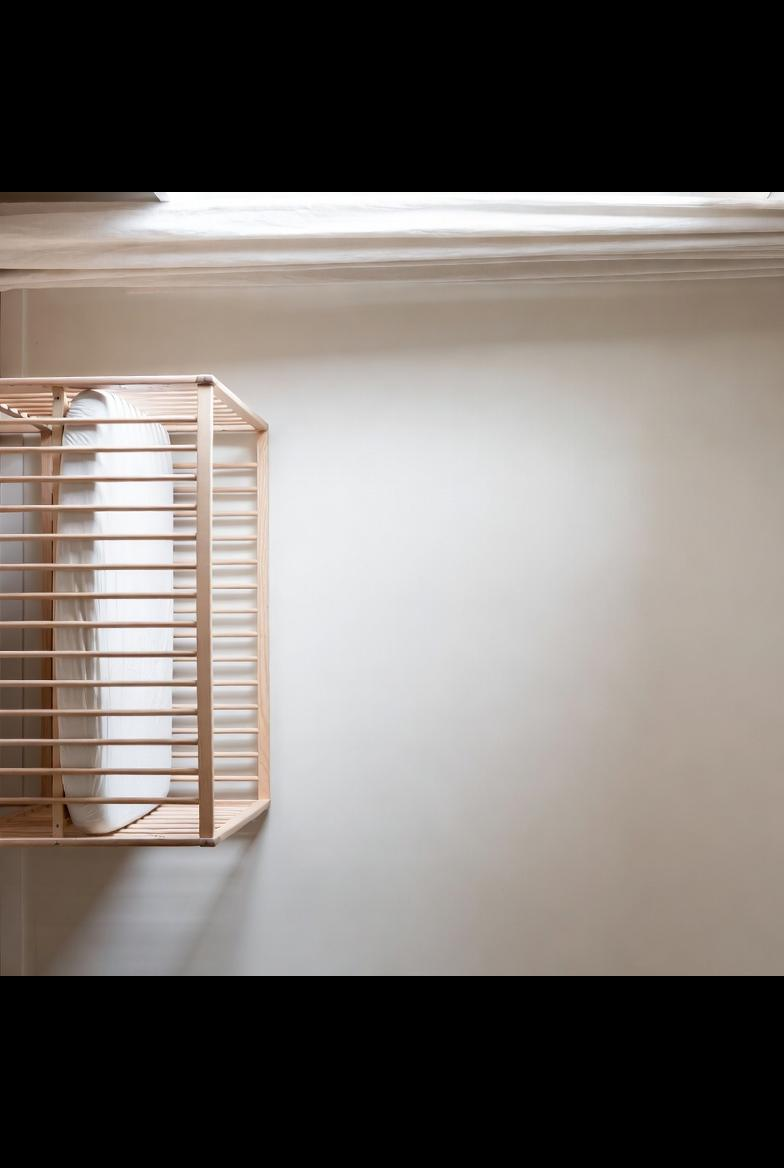crib: (0, 375, 269, 847)
